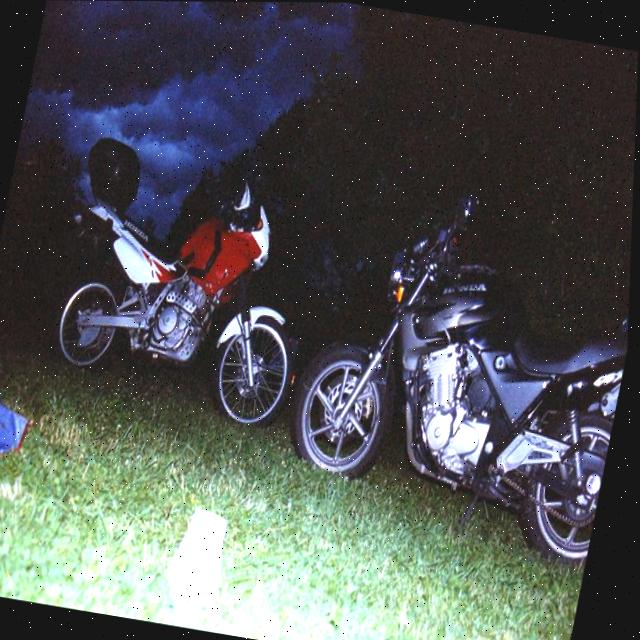motorcycle: (272, 184, 633, 567), (18, 123, 334, 439)
